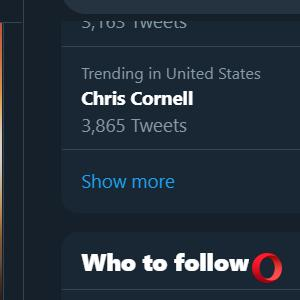opera: (251, 252, 283, 283)
